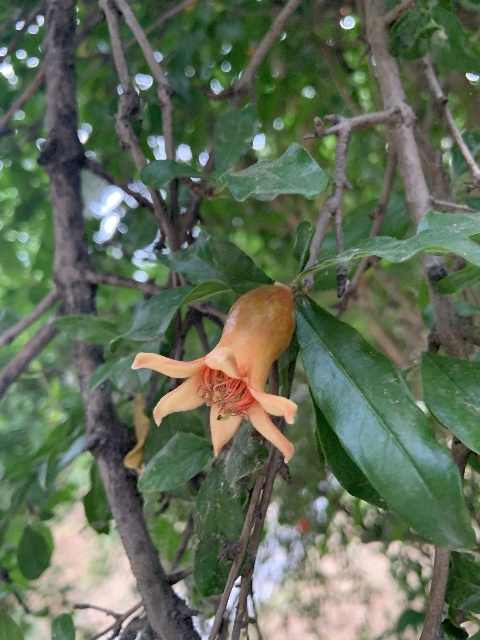early-fruit: (131, 283, 299, 464)
